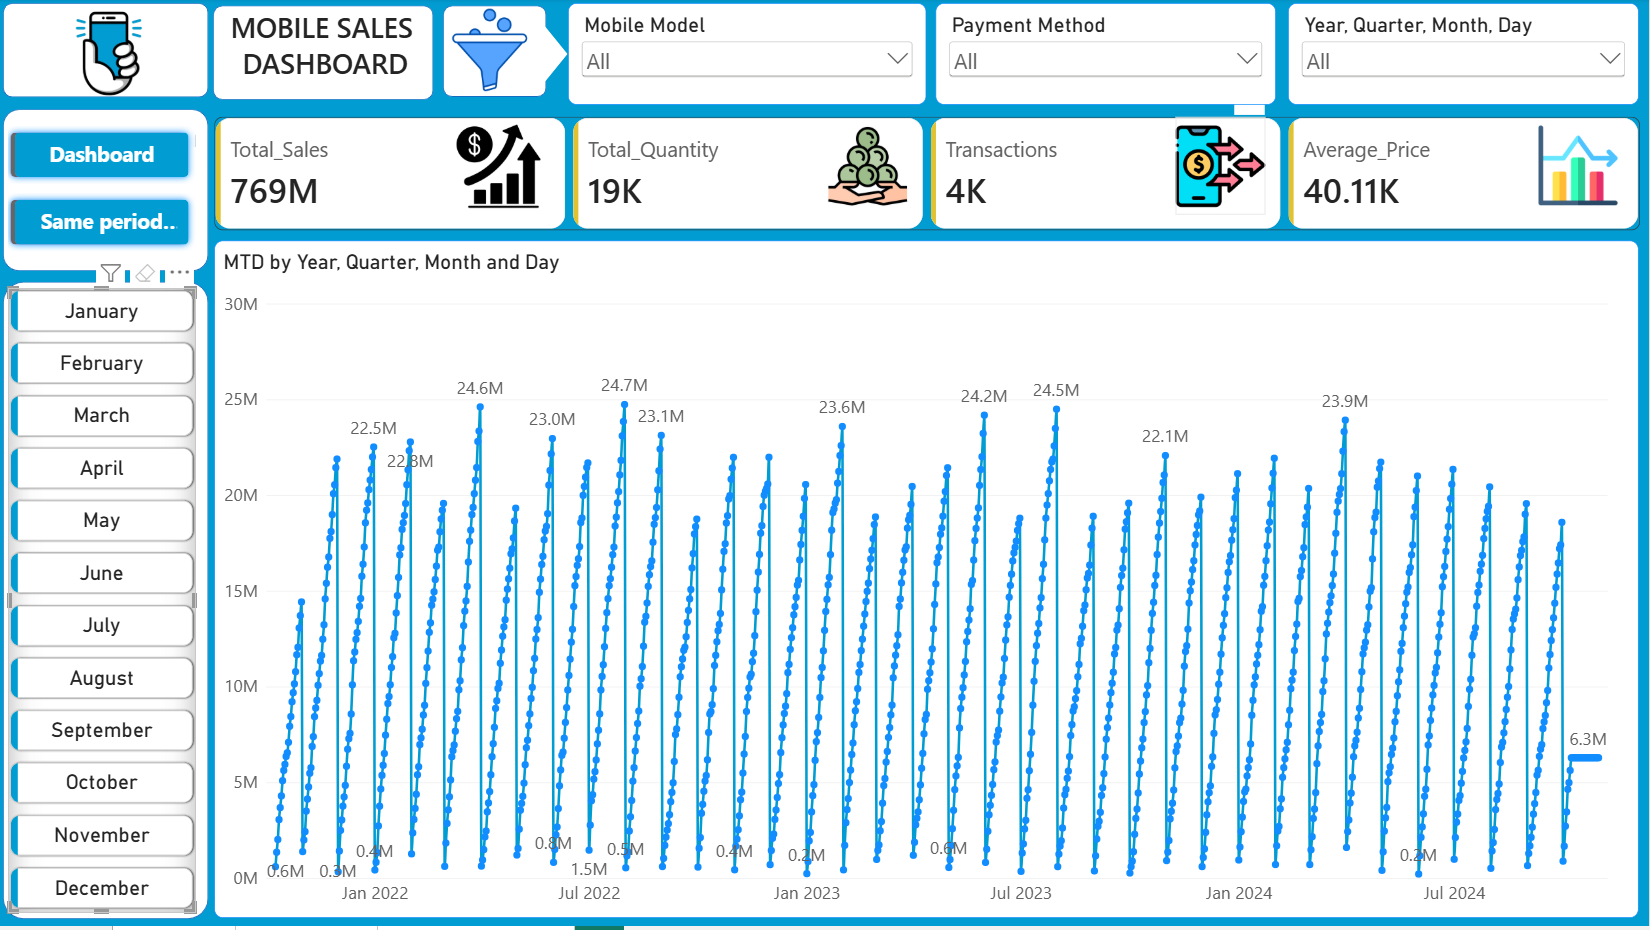

This screenshot's page, from the dashboard's own definition file:
{"tool":"powerbi","page":{"name":"MTD Report","canvas":[1920,1080],"ordinal":1},"visuals":[{"type":"shape","box":[5.2,5.2,239,109.9],"z":0},{"type":"image","box":[41.7,0,173.3,128.3],"z":1000},{"type":"shape","box":[5.2,129.1,239,188.4],"z":2000},{"type":"cardVisual","fields":{"Data":["Sales_Data.Total_Sales","Sales_Data.Total_Quantity","Sales_Data.Transactions","Sales_Data.Average"]},"box":[251.2,137.8,1658.7,132.6],"z":3000},{"type":"image","box":[528.5,146.5,108.1,97.7],"z":4000},{"type":"image","box":[959.3,146.5,104.7,97.7],"z":5000},{"type":"image","box":[1369.2,137.8,104.7,115.1],"z":6000},{"type":"image","box":[1786.1,148.3,104.7,92.4],"z":7000},{"type":"slicer","fields":{"Values":["Sales_Data.Mobile Model"]},"box":[662.8,5.2,416.9,118.6],"z":8000},{"type":"slicer","fields":{"Values":["Sales_Data.Payment Method"]},"box":[1090.1,5.2,395.9,118.6],"z":9000},{"type":"slicer","fields":{"Values":["Custom_Calendar.Date.Variation.Date Hierarchy.Year","Custom_Calendar.Date.Variation.Date Hierarchy.Quarter","Custom_Calendar.Date.Variation.Date Hierarchy.Month","Custom_Calendar.Date.Variation.Date Hierarchy.Day"]},"box":[1500,5.2,408.1,118.6],"z":10000},{"type":"shape","box":[518,8.7,120.3,106.4],"z":11000},{"type":"shape","box":[594.8,22.7,68,83.7],"z":12000},{"type":"image","box":[518,12.2,108.1,97.7],"z":13000},{"type":"shape","box":[249.4,8.7,256.4,109.9],"z":14000},{"type":"textbox","box":[270.3,12.2,219.8,94.2],"z":15000},{"type":"lineChart","title":"MTD by Year, Quarter, Month and Day","fields":{"Category":["Custom_Calendar.Date.Variation.Date Hierarchy.Year","Custom_Calendar.Date.Variation.Date Hierarchy.Quarter","Custom_Calendar.Date.Variation.Date Hierarchy.Month","Custom_Calendar.Date.Variation.Date Hierarchy.Day"],"Y":["Sales_Data.MTD"]},"box":[251.2,282.6,1657,788.4],"z":16000},{"type":"shape","box":[5.2,329.7,239,741.3],"z":17000},{"type":"advancedSlicerVisual","fields":{"Values":["Custom_Calendar.Date.Variation.Date Hierarchy.Month"]},"box":[12.2,336.6,218,727.3],"z":18000},{"type":"pageNavigator","box":[12.2,148.3,218,146.5],"z":19000}]}

Visuals, with their boxes in screenshot pixels (x1, y1, x2, y2), scaled from the page's 1920x1080 canvas onto the 1650x930 screenshot:
shape: Rect(4, 4, 210, 99)
image: Rect(36, 0, 185, 110)
shape: Rect(4, 111, 210, 273)
cardVisual - Sales_Data.Total_Sales x Sales_Data.Total_Quantity: Rect(216, 119, 1641, 233)
image: Rect(454, 126, 547, 210)
image: Rect(824, 126, 914, 210)
image: Rect(1177, 119, 1267, 218)
image: Rect(1535, 128, 1625, 207)
slicer - Sales_Data.Mobile Model: Rect(570, 4, 928, 107)
slicer - Sales_Data.Payment Method: Rect(937, 4, 1277, 107)
slicer - Custom_Calendar.Date.Variation.Date Hierarchy.Year x Custom_Calendar.Date.Variation.Date Hierarchy.Quarter: Rect(1289, 4, 1640, 107)
shape: Rect(445, 7, 549, 99)
shape: Rect(511, 20, 570, 92)
image: Rect(445, 11, 538, 95)
shape: Rect(214, 7, 435, 102)
textbox: Rect(232, 11, 421, 92)
"MTD by Year, Quarter, Month and Day" lineChart: Rect(216, 243, 1640, 922)
shape: Rect(4, 284, 210, 922)
advancedSlicerVisual - Custom_Calendar.Date.Variation.Date Hierarchy.Month: Rect(10, 290, 198, 916)
pageNavigator: Rect(10, 128, 198, 254)
